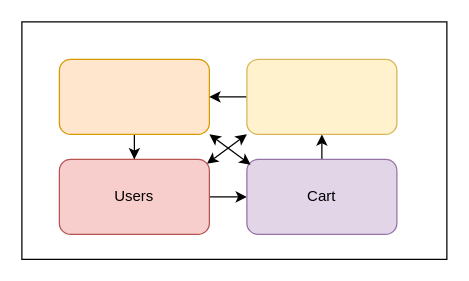
This 469x281 diagram has some shape labels left out. The box of each missing label's shape, as (x1, y1, x2, y2) in pixels:
Invoices: (58, 58, 209, 134)
Orders: (246, 58, 397, 134)
